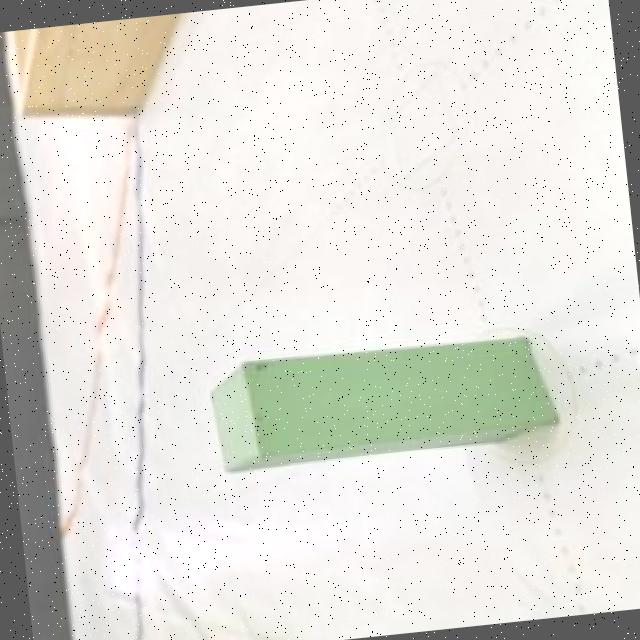greenbox: (200, 327, 562, 478)
